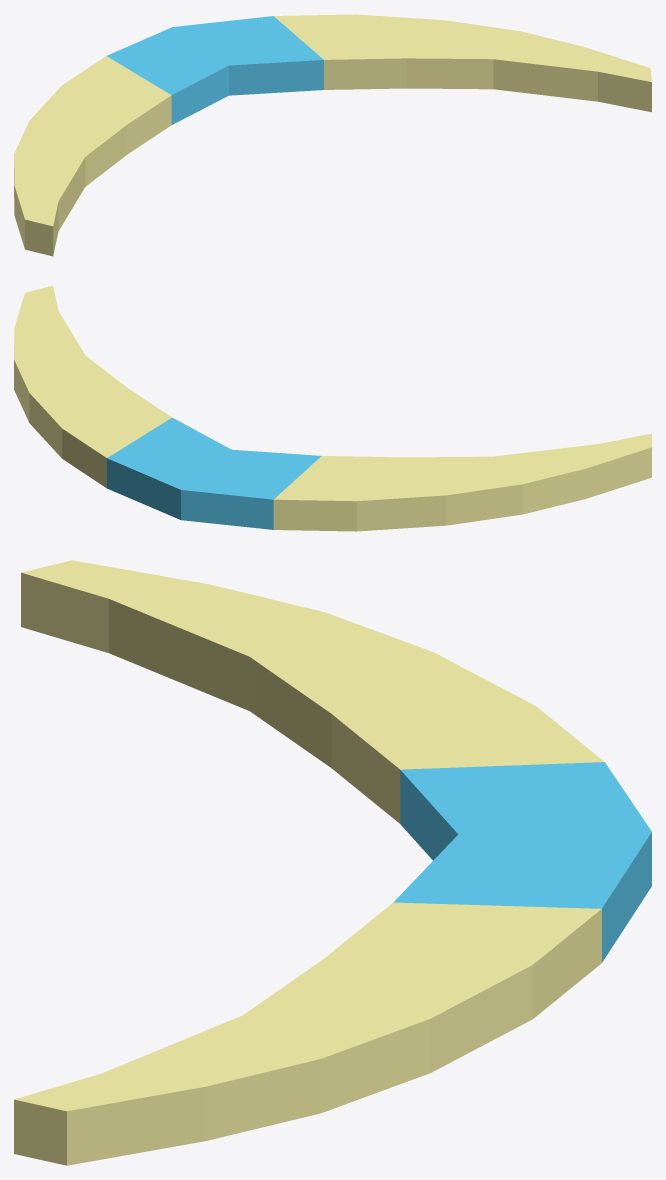
File: Boomerang.fbx
3 views of the same model, one above another, from view 1: azimuth 30°, elevation 25°; view 2: azimuth 150°, elevation 25°; view 3: azimuth 270°, elevation 25° (orthographic). The views are drawn at different scales.
Parts seen in each view (by area): view 1: Boomerang; view 2: Boomerang; view 3: Boomerang.
Part boxes in pixels (left/top/right/bottom): Boomerang: left=14, top=14, right=651, bottom=256; Boomerang: left=14, top=285, right=651, bottom=531; Boomerang: left=14, top=560, right=651, bottom=1165.
Size of the model in its own units: 14.84 by 0.6834 by 7.26.
